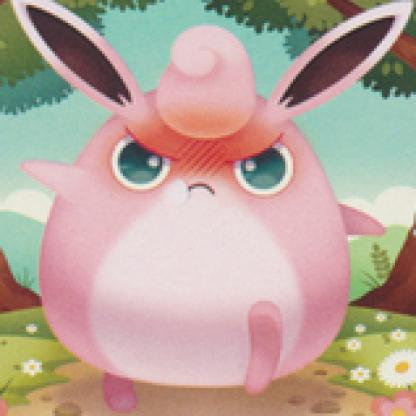Wigglytuff: (9, 1, 413, 403)
